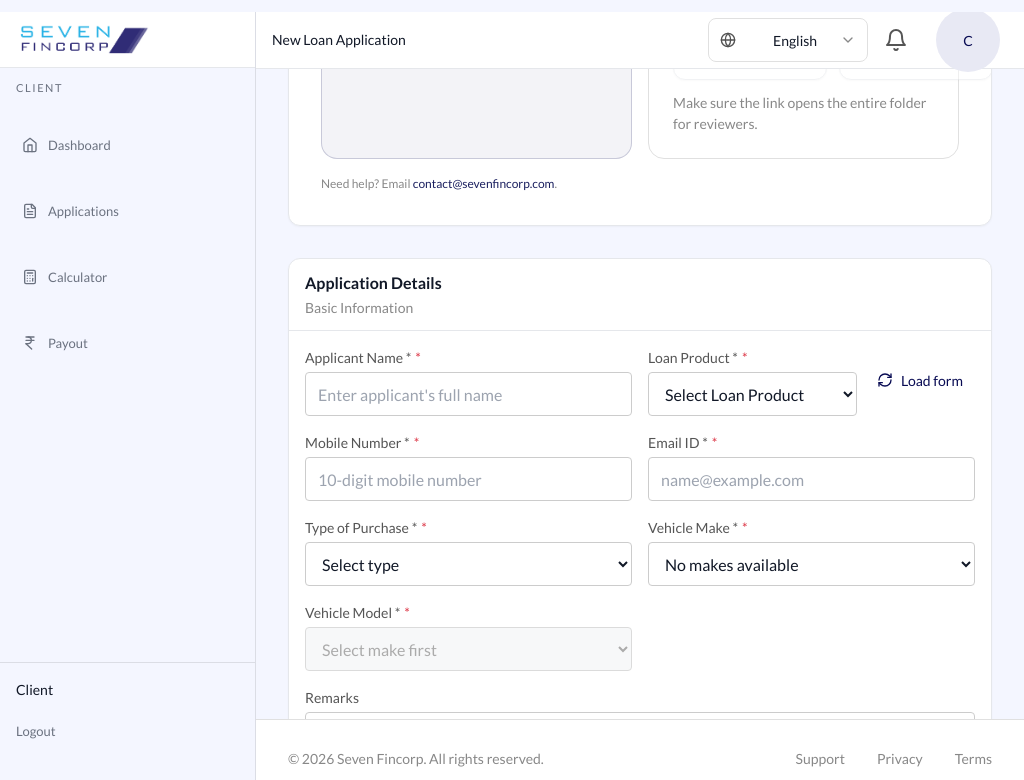
Scenario: NewApplication Page - P0 Tests › Vehicle options loading › shows vehicle endpoint errors when loading makes fails
(page scrolled)
Select "Business Loan" in the dropdown with test id "loan-product-select" at (752, 394), box [648,372,857,416]
(page scrolled)
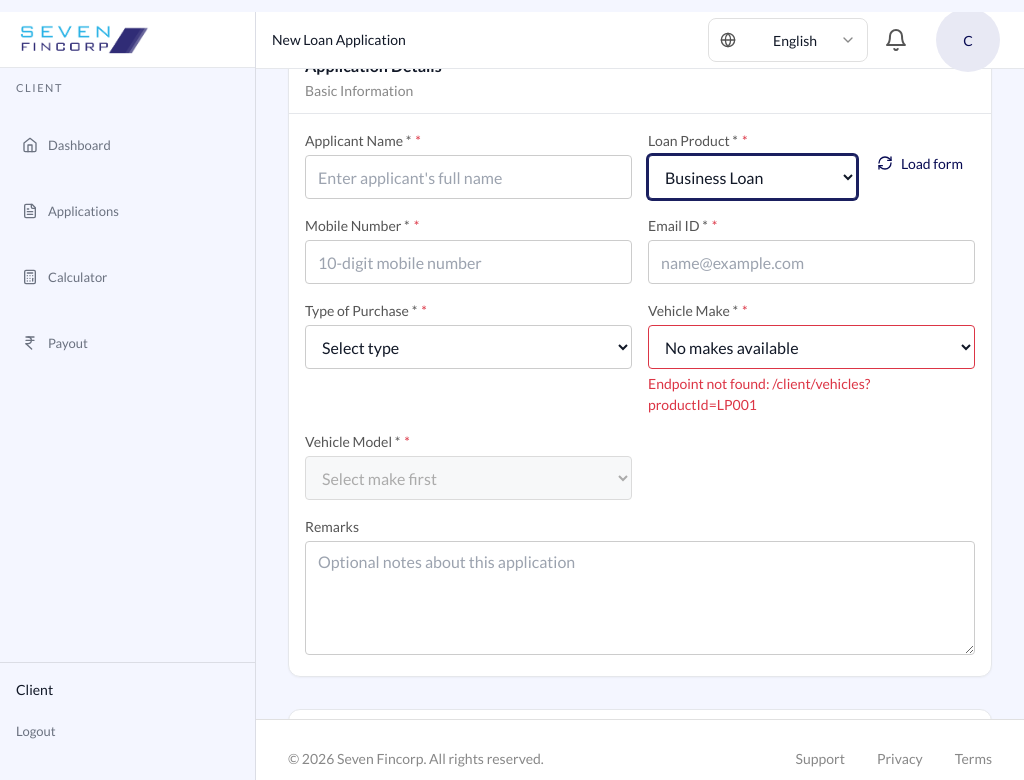
Now the text "Endpoint not found: /client/vehicles?productId=LP001" is shown, box [648,375,870,413]
